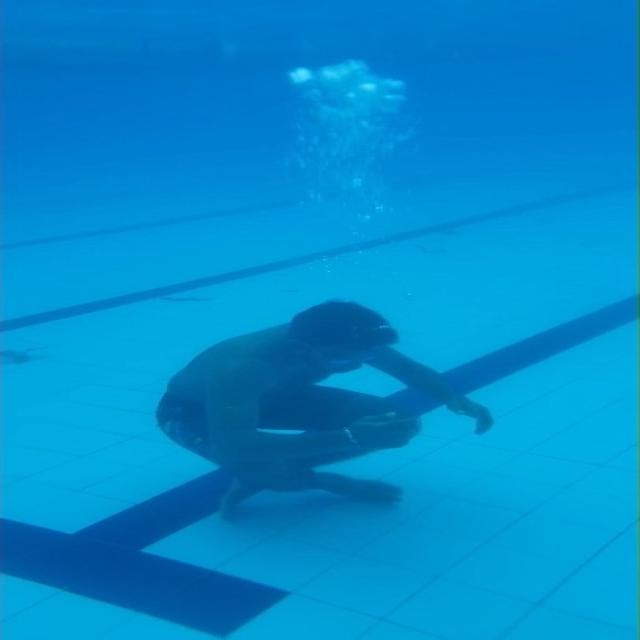Drowning: (154, 300, 495, 518)
